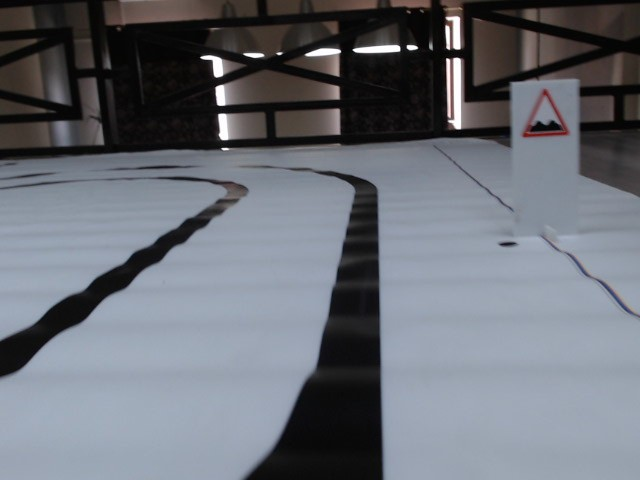Nerov: (519, 88, 571, 141)
